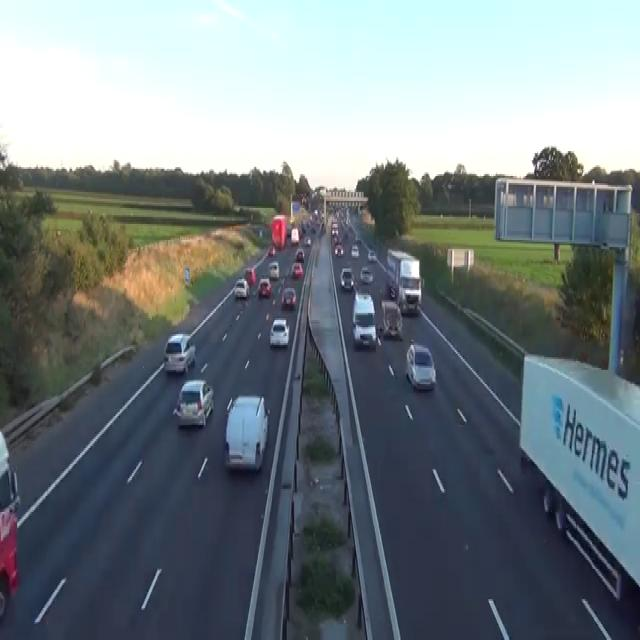Car: (172, 378, 214, 428), (0, 427, 20, 521), (405, 341, 436, 391), (163, 332, 196, 373), (543, 484, 565, 532), (398, 276, 422, 314), (381, 298, 402, 338), (269, 318, 289, 347), (340, 266, 354, 290), (234, 277, 249, 299), (281, 286, 296, 308), (257, 277, 271, 297), (359, 265, 373, 283), (244, 266, 256, 284), (268, 261, 279, 279), (291, 262, 303, 278), (295, 247, 304, 261), (351, 244, 359, 258), (367, 249, 376, 261), (334, 244, 343, 256), (268, 244, 275, 256), (303, 235, 311, 245), (333, 233, 341, 243), (286, 226, 292, 236), (301, 194, 307, 204), (354, 234, 361, 242), (310, 226, 315, 233), (290, 217, 295, 224), (259, 230, 262, 237)
Truck: (518, 352, 639, 601), (0, 426, 20, 618), (223, 393, 269, 471), (386, 247, 422, 315), (351, 290, 376, 348), (270, 213, 286, 249)
